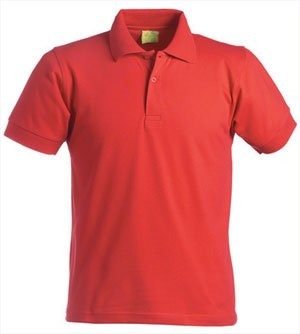T-Shirt: (4, 6, 299, 329)
